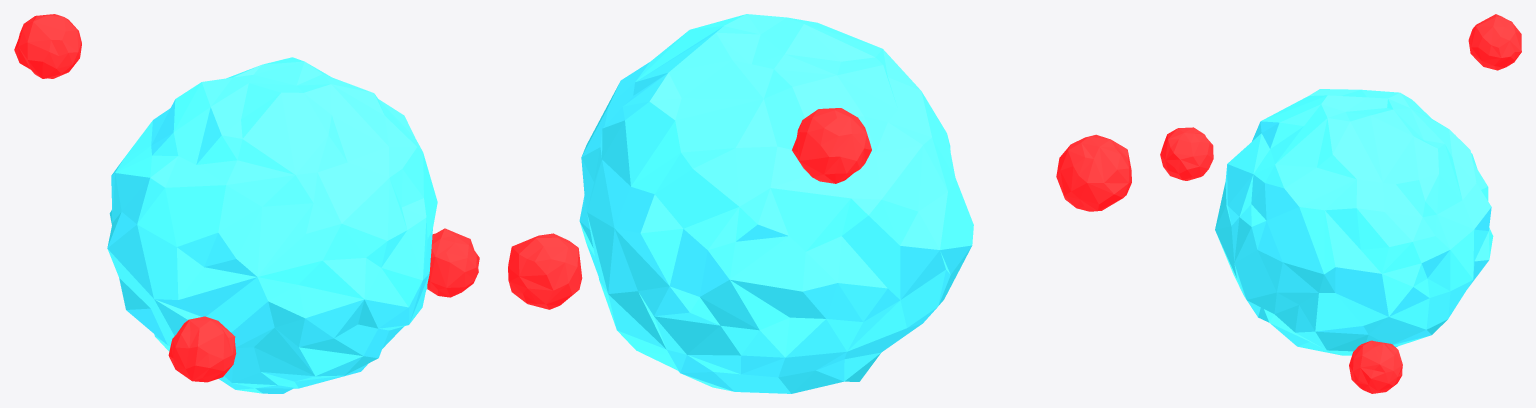
The model's file is planet_1(pivot_for_animation).fbx.
3 views of the same model, side by side, from view 1: azimuth 30°, elevation 25°; view 2: azimuth 150°, elevation 25°; view 3: azimuth 270°, elevation 25° (orthographic). The views are drawn at different scales.
Parts seen in each view (by area): view 1: planet1, planet1_moon1, planet1_moon2, plnaet1_moon3; view 2: planet1, planet1_moon1, plnaet1_moon3, planet1_moon2; view 3: planet1, plnaet1_moon3, planet1_moon1, planet1_moon2.
Boxes of the visible parts, x1=… form: planet1: x1=107, y1=57, x2=437, y2=393; planet1_moon1: x1=168, y1=316, x2=236, y2=382; planet1_moon2: x1=14, y1=14, x2=81, y2=78; plnaet1_moon3: x1=427, y1=228, x2=479, y2=297; planet1: x1=579, y1=14, x2=973, y2=393; planet1_moon1: x1=1056, y1=134, x2=1131, y2=211; plnaet1_moon3: x1=508, y1=233, x2=582, y2=309; planet1_moon2: x1=792, y1=108, x2=871, y2=183; planet1: x1=1215, y1=89, x2=1493, y2=355; plnaet1_moon3: x1=1349, y1=340, x2=1402, y2=393; planet1_moon1: x1=1160, y1=127, x2=1213, y2=180; planet1_moon2: x1=1468, y1=14, x2=1521, y2=70.
Bounding box in the file's own units: 279 × 212 × 257.
